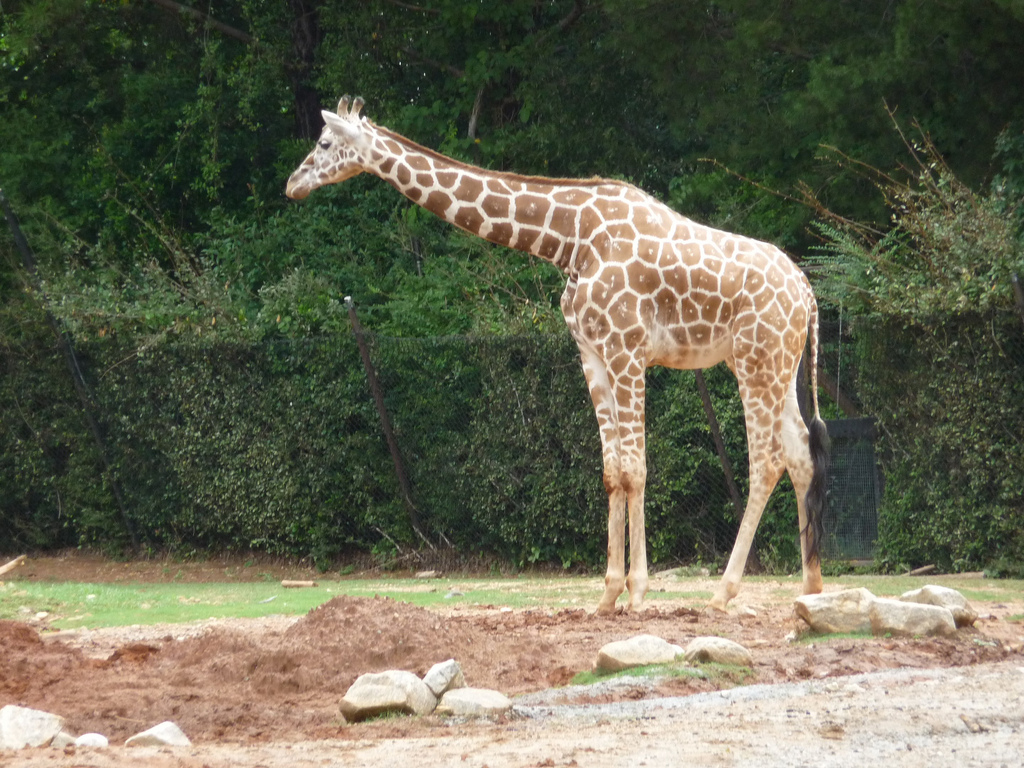giraffe: (289, 65, 861, 618)
